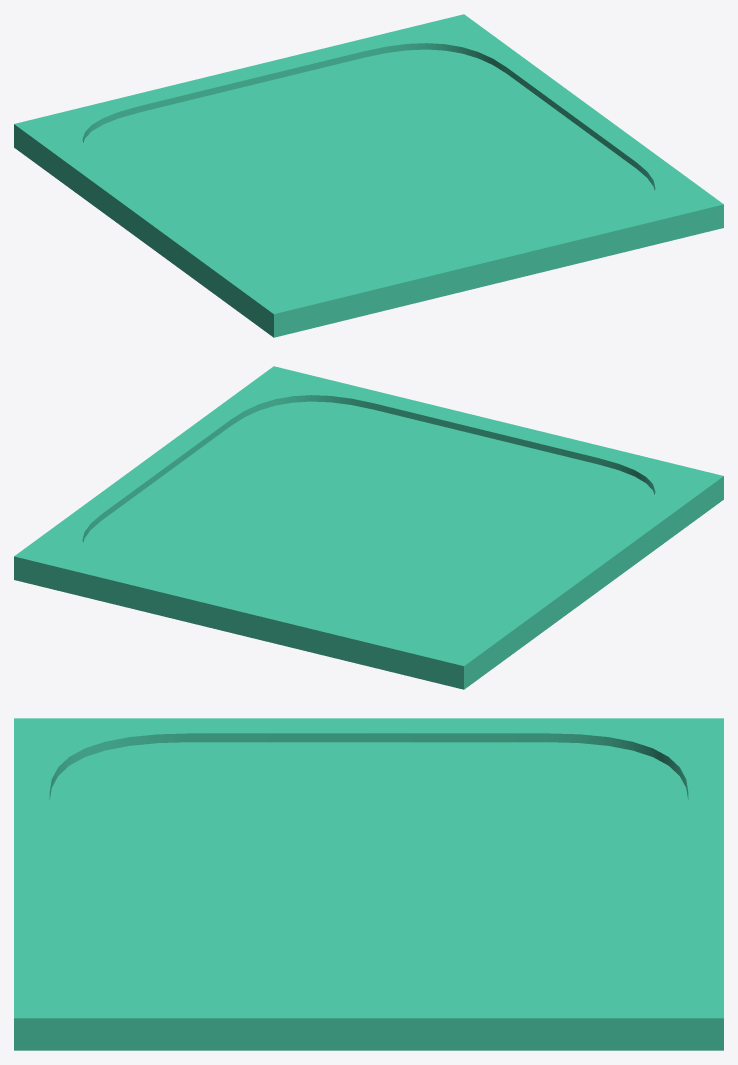
The model's file is Floor_2x2m_B.FBX.
The picture shows the model from 3 angles, top to bottom: view 1: azimuth 30°, elevation 25°; view 2: azimuth 150°, elevation 25°; view 3: azimuth 270°, elevation 25°; orthographic projection. The views are drawn at different scales.
Visible parts, largest first — view 1: Floor_2x2m_B; view 2: Floor_2x2m_B; view 3: Floor_2x2m_B.
Part boxes in pixels (x1,y1,x2,y2): Floor_2x2m_B: (14,14,723,337); Floor_2x2m_B: (14,366,723,689); Floor_2x2m_B: (14,718,723,1050).
Bounding box in the file's own units: 200 × 10 × 200.
